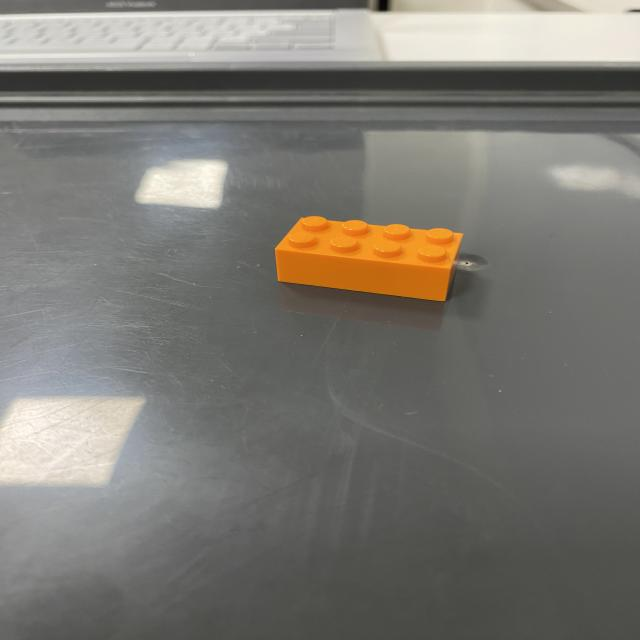C4x2x1: (276, 218, 471, 303)
